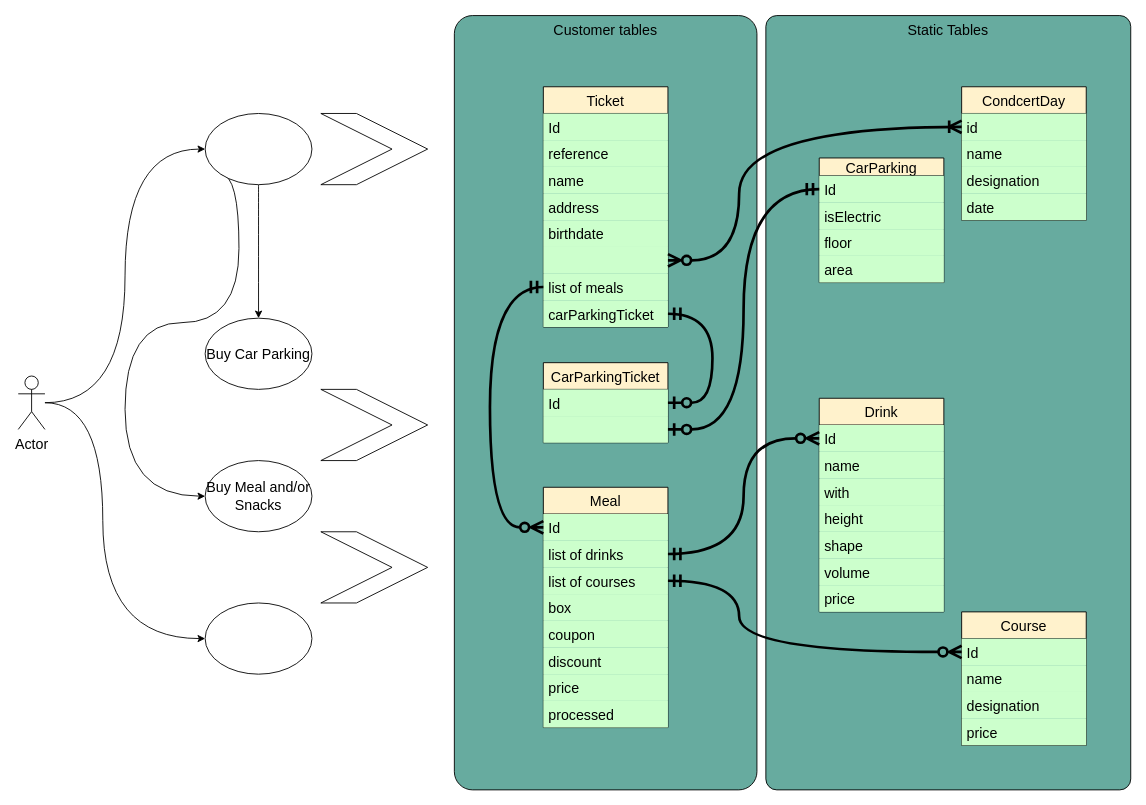
Some shapes in this 1146 by 805 pixel diagram are drawn without their labels. Here are the shapes that lost their labels. From the top down, the centre of each, then its label:
the point at 258,149: Buy Ticket
the point at 605,260: list of concertDays
the point at 605,429: parkingNumber
the point at 258,638: Pickup meal
